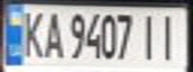0: (100, 10, 118, 61)
4: (81, 10, 103, 60)
7: (115, 10, 136, 61)
9: (63, 9, 87, 60)
A: (39, 8, 66, 60)
I: (154, 10, 184, 61), (136, 10, 163, 61)
K: (18, 7, 48, 60)
